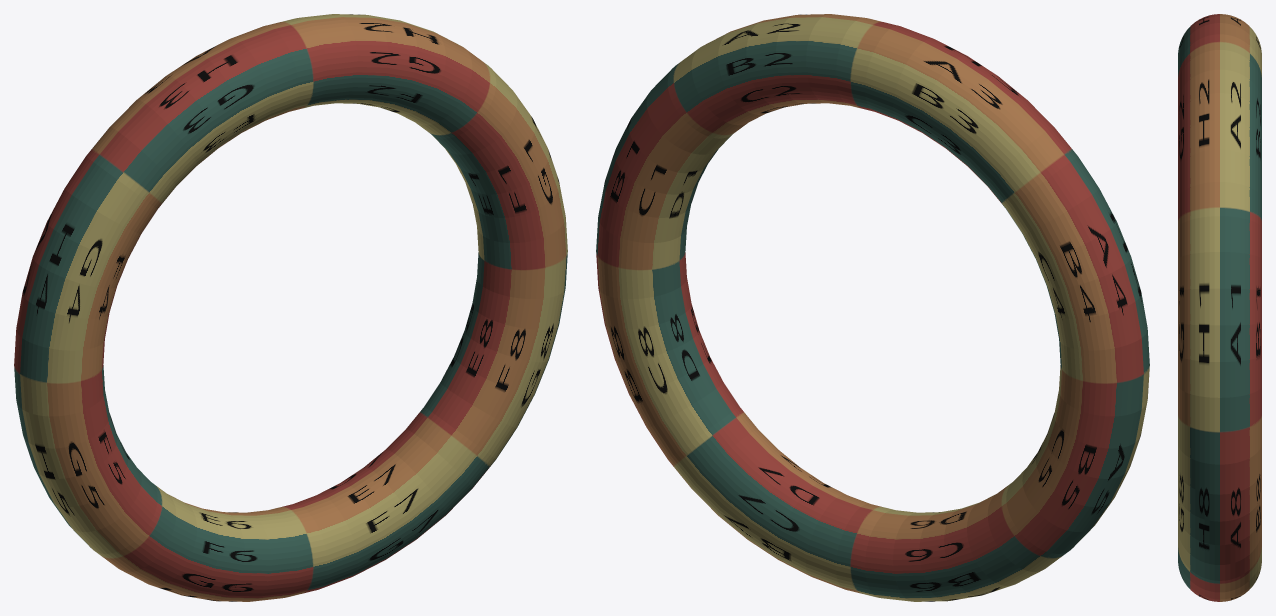
The model's file is texture_torus_R15_r5.glb.
The picture shows the model from 3 angles, left to right: view 1: azimuth 30°, elevation 25°; view 2: azimuth 150°, elevation 25°; view 3: azimuth 270°, elevation 25°; orthographic projection. The views are drawn at different scales.
Visible parts, largest first — view 1: world; view 2: world; view 3: world.
Part boxes in pixels (x1,y1,x2,y2): world: (14,14,567,601); world: (596,14,1149,601); world: (1178,14,1261,601).
Bounding box in the file's own units: 23.33 × 23.29 × 3.33.
Materials: 1 (1 with a texture image).
